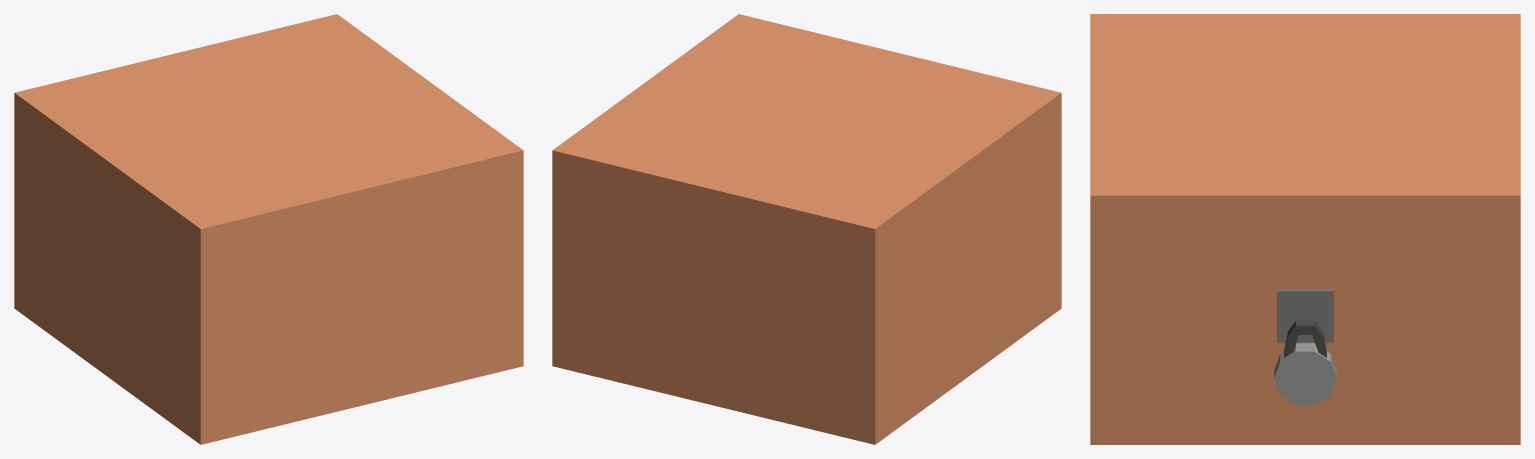
File: table_box.fbx
3 renders of one model, left to right at view 1: azimuth 30°, elevation 25°; view 2: azimuth 150°, elevation 25°; view 3: azimuth 270°, elevation 25°, orthographic. The views are drawn at different scales.
Visible parts, largest first — view 1: Cube.001, Cube; view 2: Cube.001, Cube; view 3: Cube.001, Cube, Cylinder, Cube.002, Cylinder.001.
Part boxes in pixels (x1,y1,x2,y2): Cube.001: [14, 14, 523, 336]; Cube: [14, 201, 523, 444]; Cube.001: [552, 14, 1061, 336]; Cube: [552, 201, 1061, 444]; Cube.001: [1090, 14, 1520, 320]; Cube: [1090, 320, 1520, 444]; Cylinder: [1274, 343, 1336, 405]; Cube.002: [1277, 289, 1333, 342]; Cylinder.001: [1284, 320, 1326, 357].
Bounding box in the file's own units: 211 × 128 × 200.
